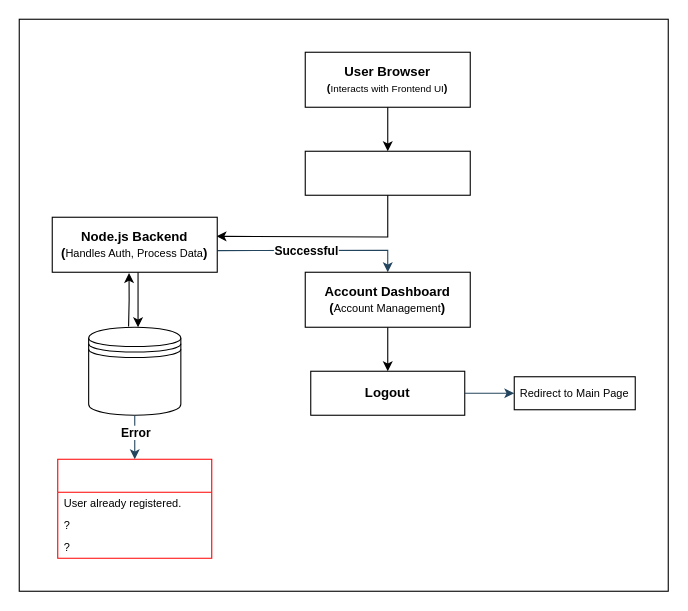
This 688x611 diagram has some shape labels left out. The box of each missing label's shape, as (x1, y1, x2, y2) in pixels:
Error 409 Conflict: (57, 458, 212, 558)
PostgreSQL Database ( Stores Data ): (88, 326, 181, 415)
Sign Up / Login: (304, 150, 470, 195)
